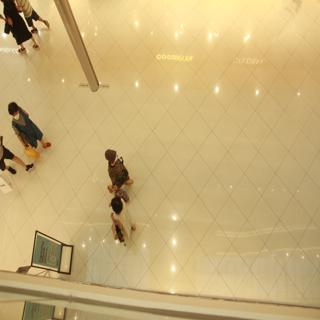person: (7, 99, 60, 165), (104, 195, 147, 251), (97, 142, 145, 188)
